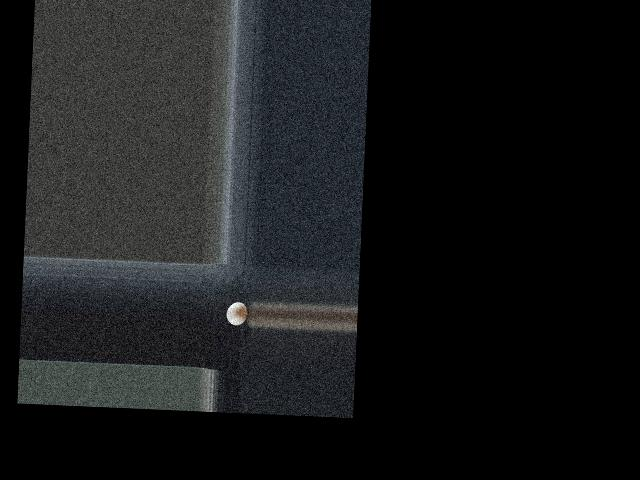egg: (226, 301, 248, 325)
